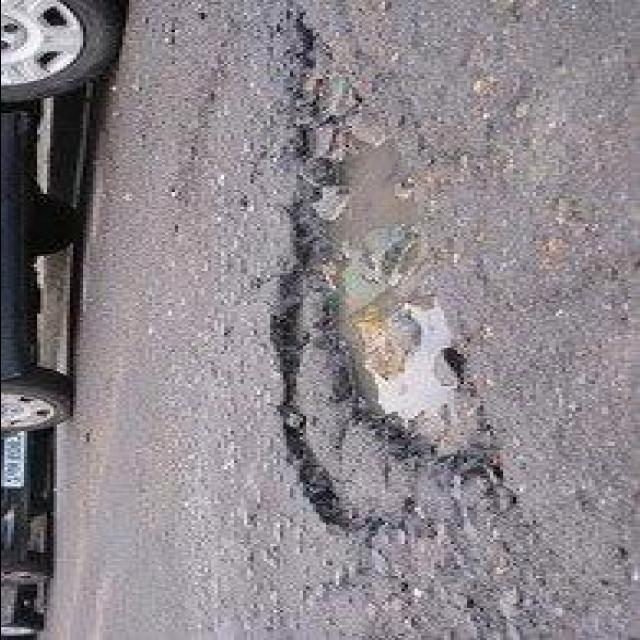lubang: (262, 8, 476, 544)
